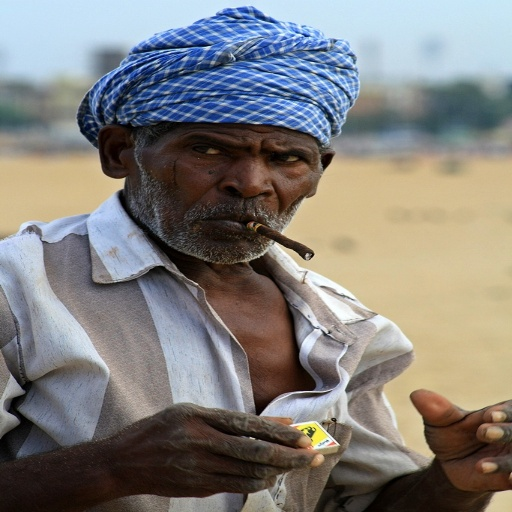hand: (91, 399, 327, 500), (407, 386, 511, 495)
